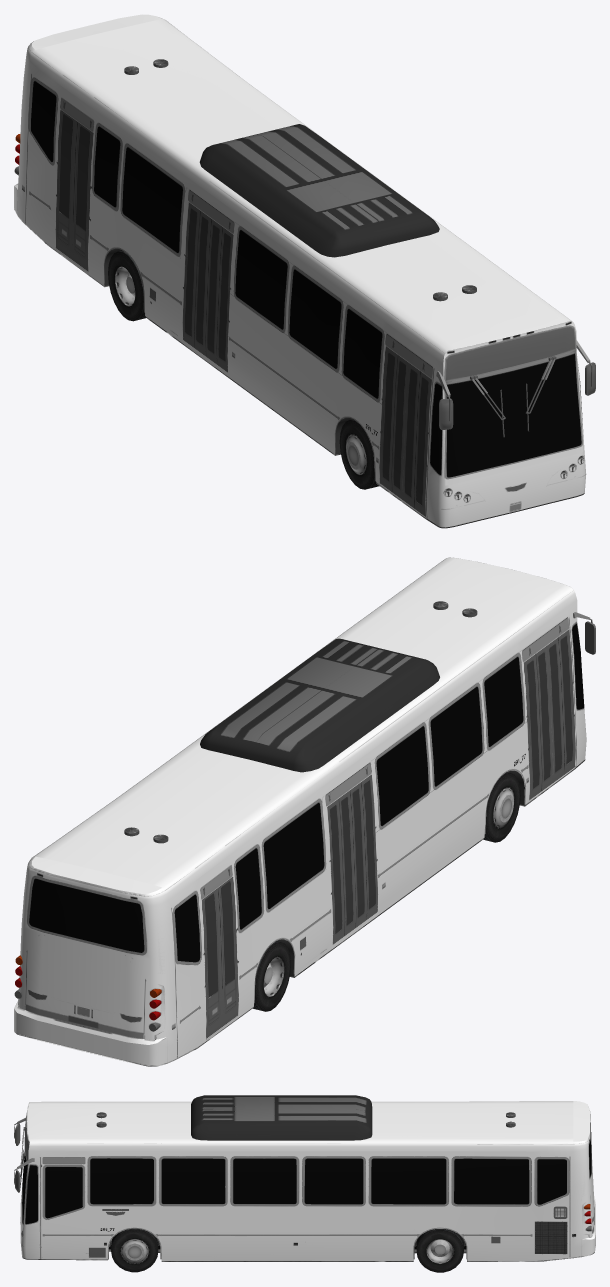
The model's file is Bus 1n.fbx.
3 renders of one model, top to bottom at view 1: azimuth 30°, elevation 25°; view 2: azimuth 150°, elevation 25°; view 3: azimuth 270°, elevation 25°, orthographic. The views are drawn at different scales.
Parts seen in each view (by area): view 1: Object002, Body, Wheel_BR, Wheel_FR; view 2: Object002, Body, Wheel_BR, Wheel_FR; view 3: Object002, Body, Wheel_BL, Wheel_FL.
Part boxes in pixels (x1,y1,x2,y2): Object002: (14,14,586,527); Body: (14,59,595,528); Wheel_BR: (108,250,145,321); Wheel_FR: (339,419,379,489); Object002: (14,557,586,1065); Body: (14,601,595,1066); Wheel_BR: (253,941,290,1011); Wheel_FR: (483,772,520,842); Object002: (20,1101,595,1261); Body: (14,1095,595,1261); Wheel_BL: (416,1229,463,1272); Wheel_FL: (111,1228,158,1272).
Size of the model in its own units: 72.66 by 93.52 by 353.
